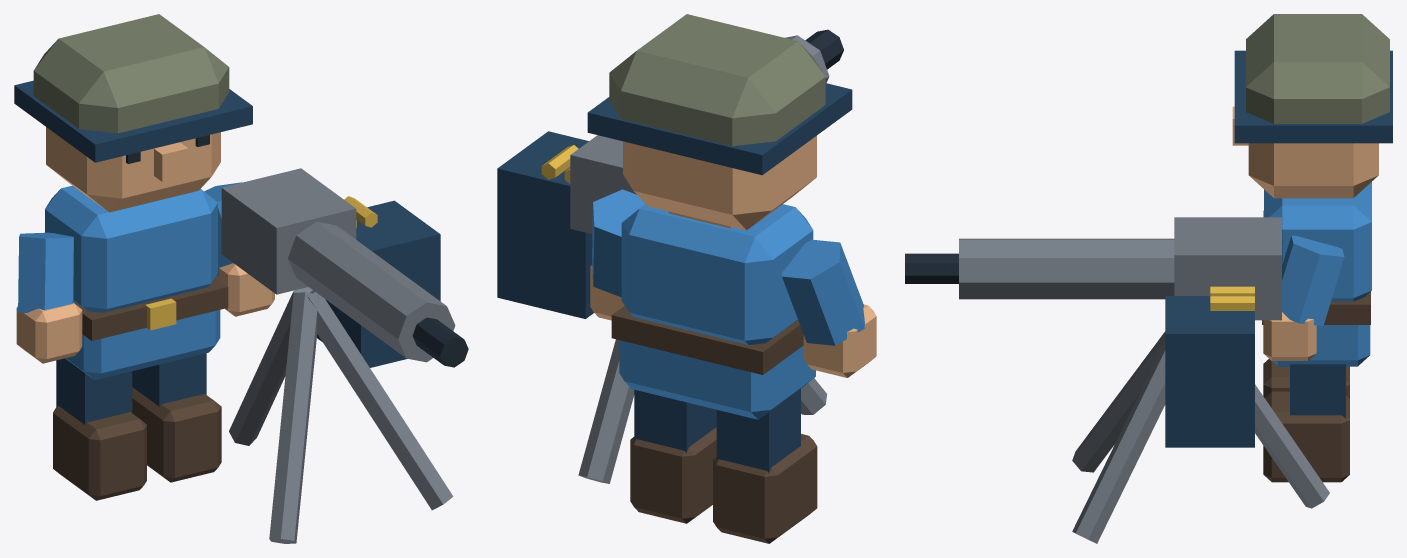
File: u_machine_gun.glb
3 views of the same model, side by side, from view 1: azimuth 30°, elevation 25°; view 2: azimuth 150°, elevation 25°; view 3: azimuth 270°, elevation 25° (orthographic). The views are drawn at different scales.
Visible parts, largest first — view 1: u_machine_gun; view 2: u_machine_gun; view 3: u_machine_gun.
Part boxes in pixels (left/top/right/bottom): u_machine_gun: left=14, top=14, right=468, bottom=543; u_machine_gun: left=497, top=14, right=876, bottom=543; u_machine_gun: left=905, top=14, right=1392, bottom=543.
Bounding box in the file's own units: 0.2223 × 0.2559 × 0.2717.
